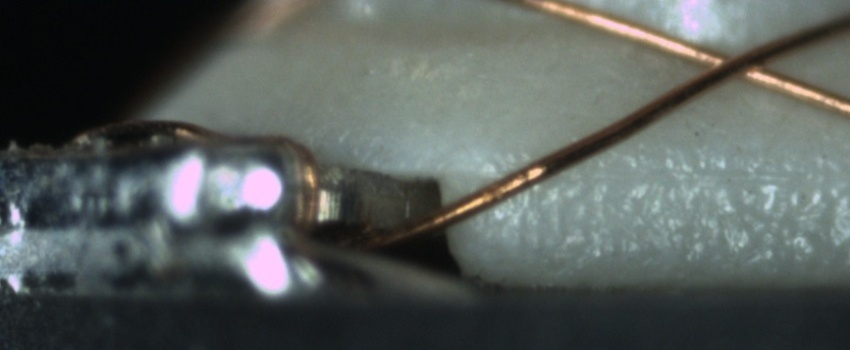CL: (690, 34, 793, 90)
DL: (553, 142, 849, 207)
TE: (168, 115, 325, 238)
